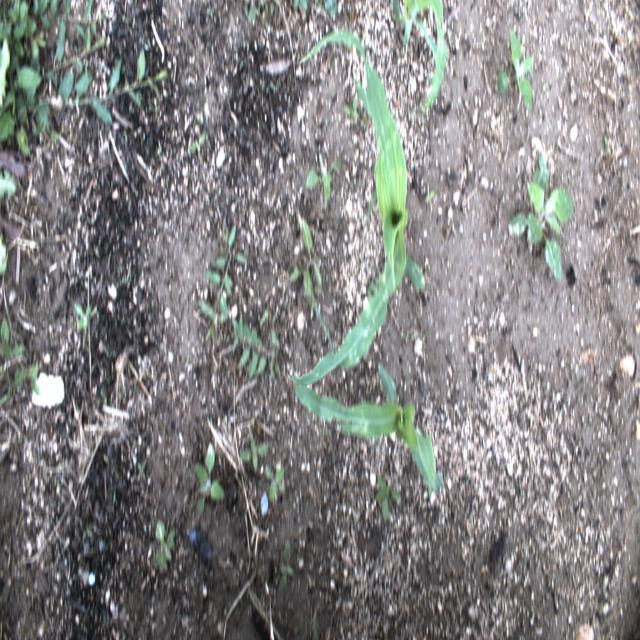crop: (290, 33, 425, 385), (294, 363, 444, 499), (391, 0, 448, 111)
weed: (0, 0, 167, 156), (508, 154, 574, 281), (200, 222, 248, 343), (0, 317, 40, 407), (231, 313, 281, 381), (496, 26, 534, 113), (290, 218, 322, 300), (194, 442, 225, 515), (305, 163, 341, 210), (238, 430, 269, 472), (153, 518, 176, 570), (376, 475, 399, 521), (311, 294, 332, 342), (244, 0, 275, 30), (265, 462, 285, 502), (278, 538, 293, 591), (73, 303, 99, 333), (1, 169, 18, 200), (343, 100, 359, 126), (368, 277, 380, 305), (189, 135, 206, 154), (0, 233, 7, 277), (324, 0, 338, 18), (137, 456, 146, 481), (293, 0, 308, 10), (604, 136, 611, 156), (424, 192, 434, 204), (195, 115, 204, 126)
